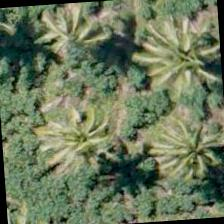Kelapa_Sawit: (27, 91, 123, 188), (128, 9, 224, 105), (29, 0, 126, 88), (140, 95, 223, 192)
